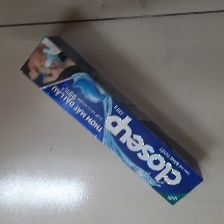CloseUp Tuyet: (19, 35, 204, 207)
